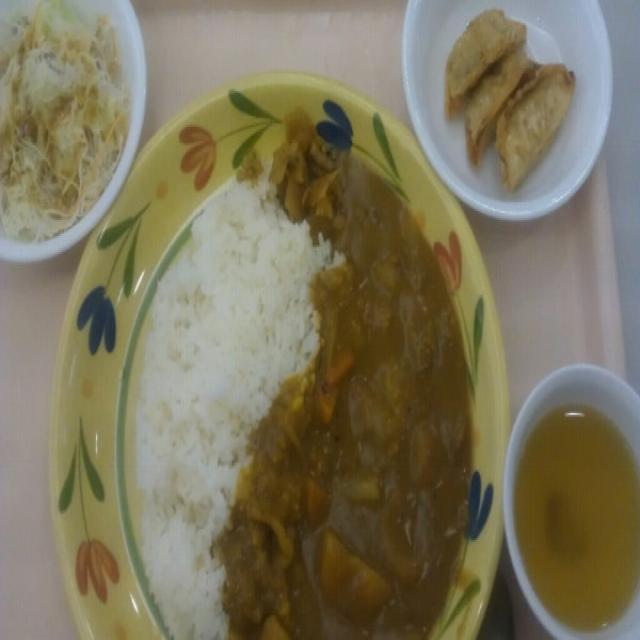Beef Curry: (256, 141, 467, 640)
